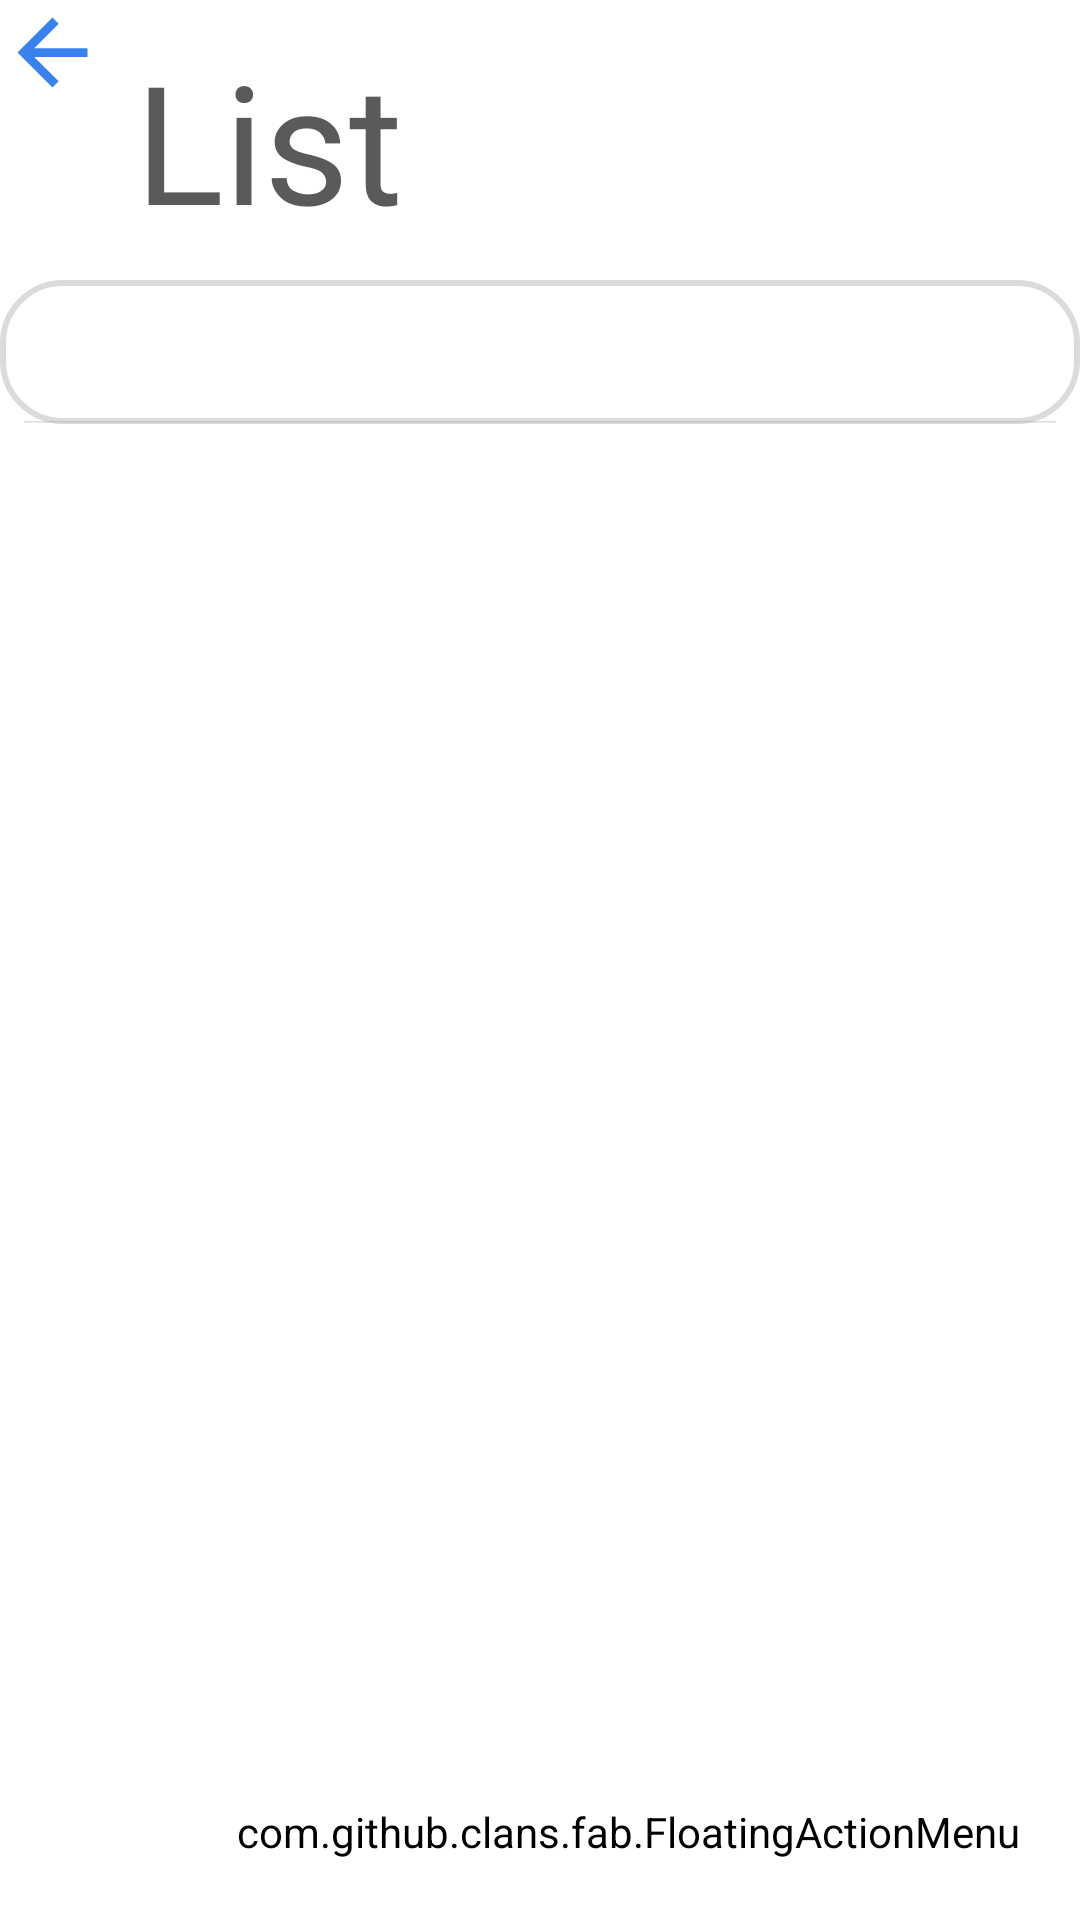

Screen size 1080px×1920px. Icon name, then its center in pixels as [x,y]:
arrow back: [52,52]
